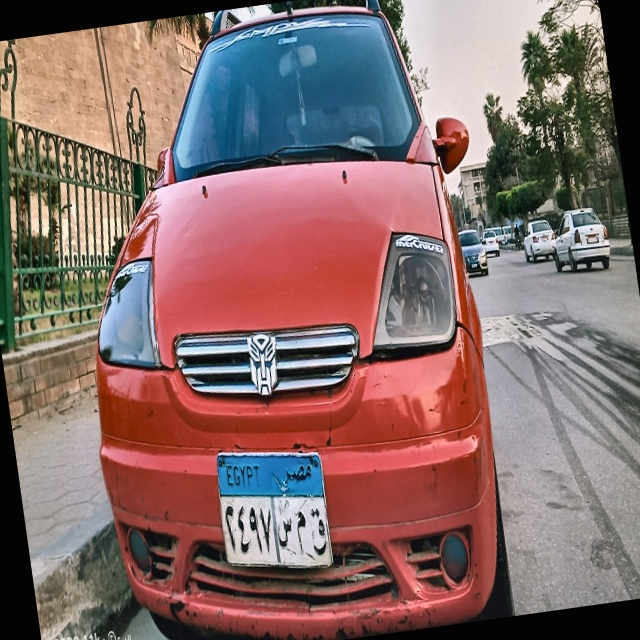License Plate: (210, 436, 338, 587)
